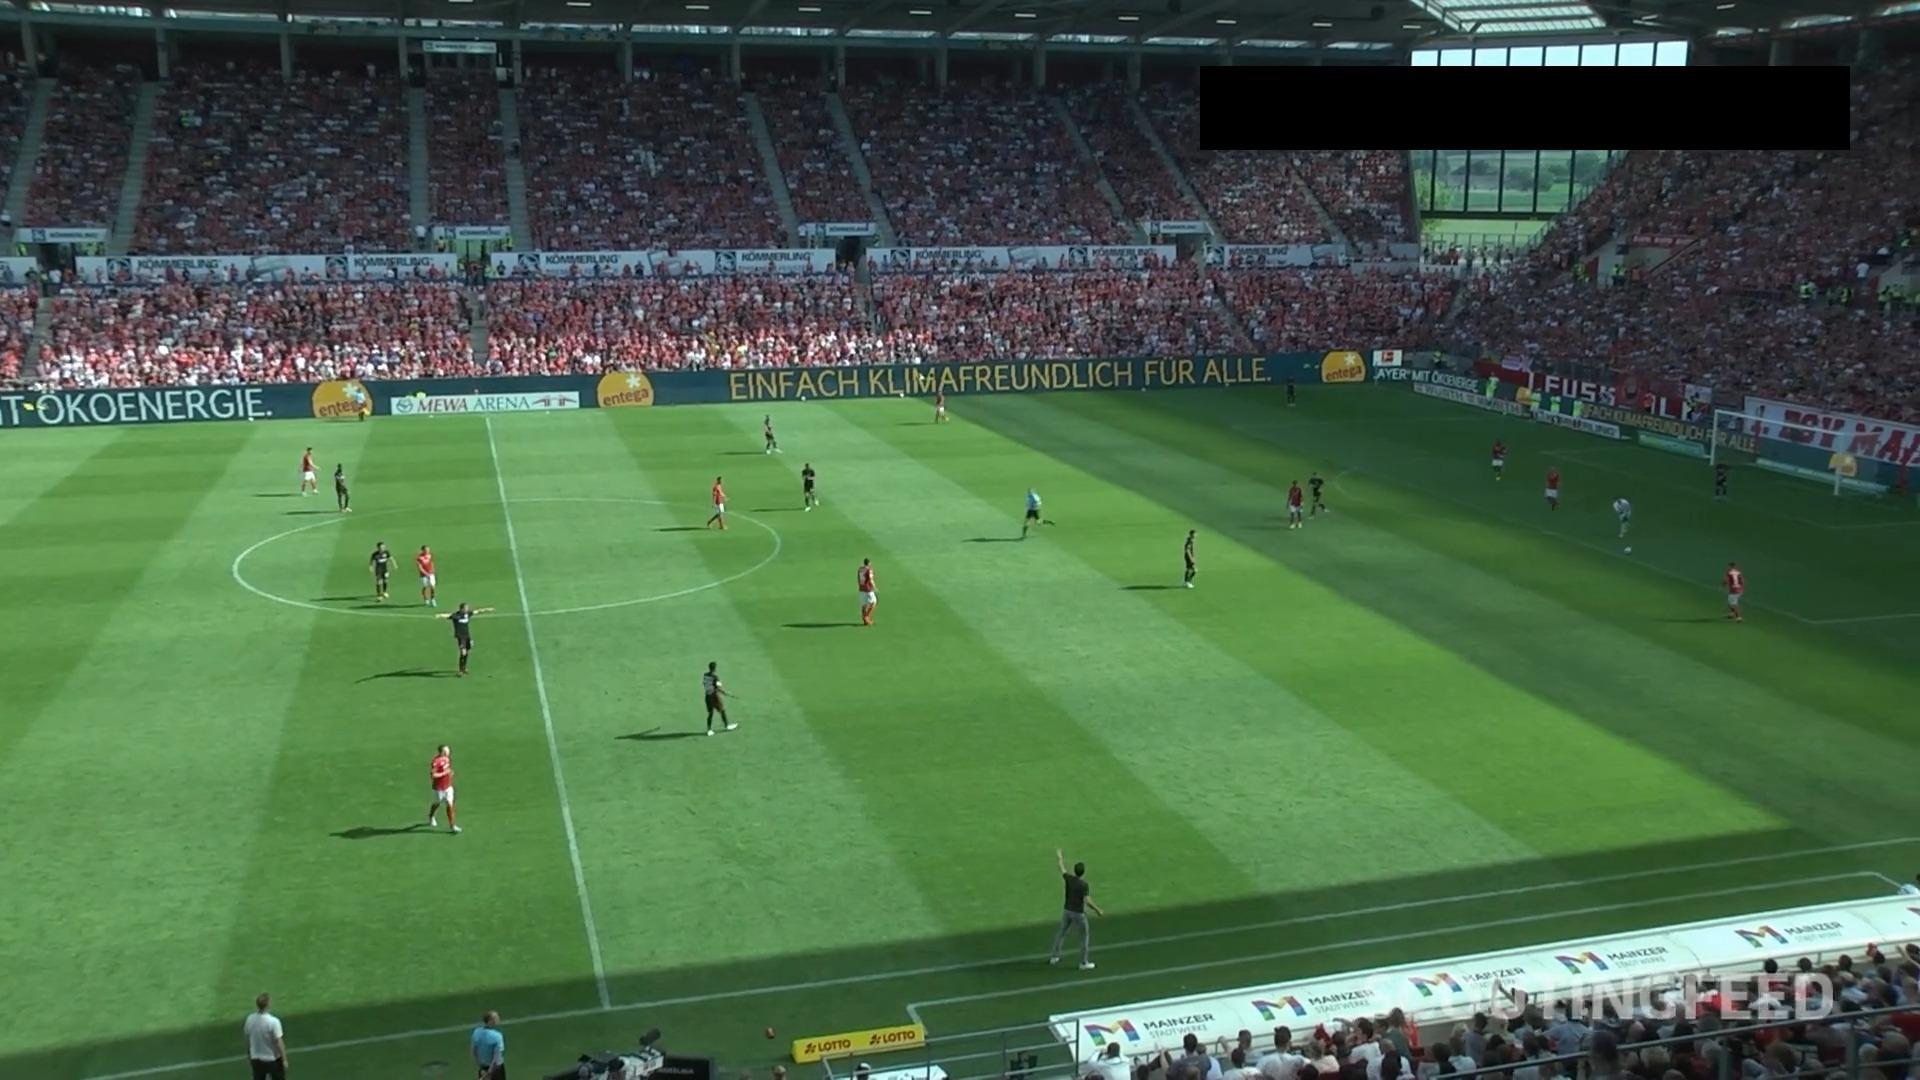ball: (1623, 546, 1631, 554)
